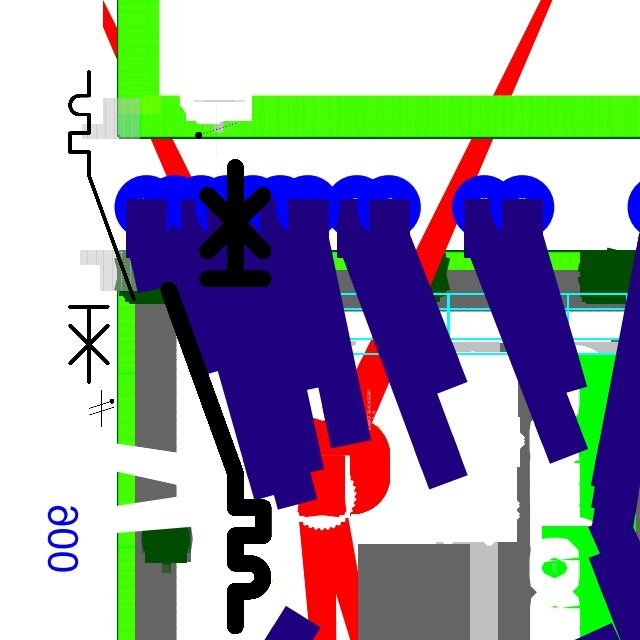interruptor_termomagnetico: (157, 155, 275, 638), (62, 64, 141, 390)
